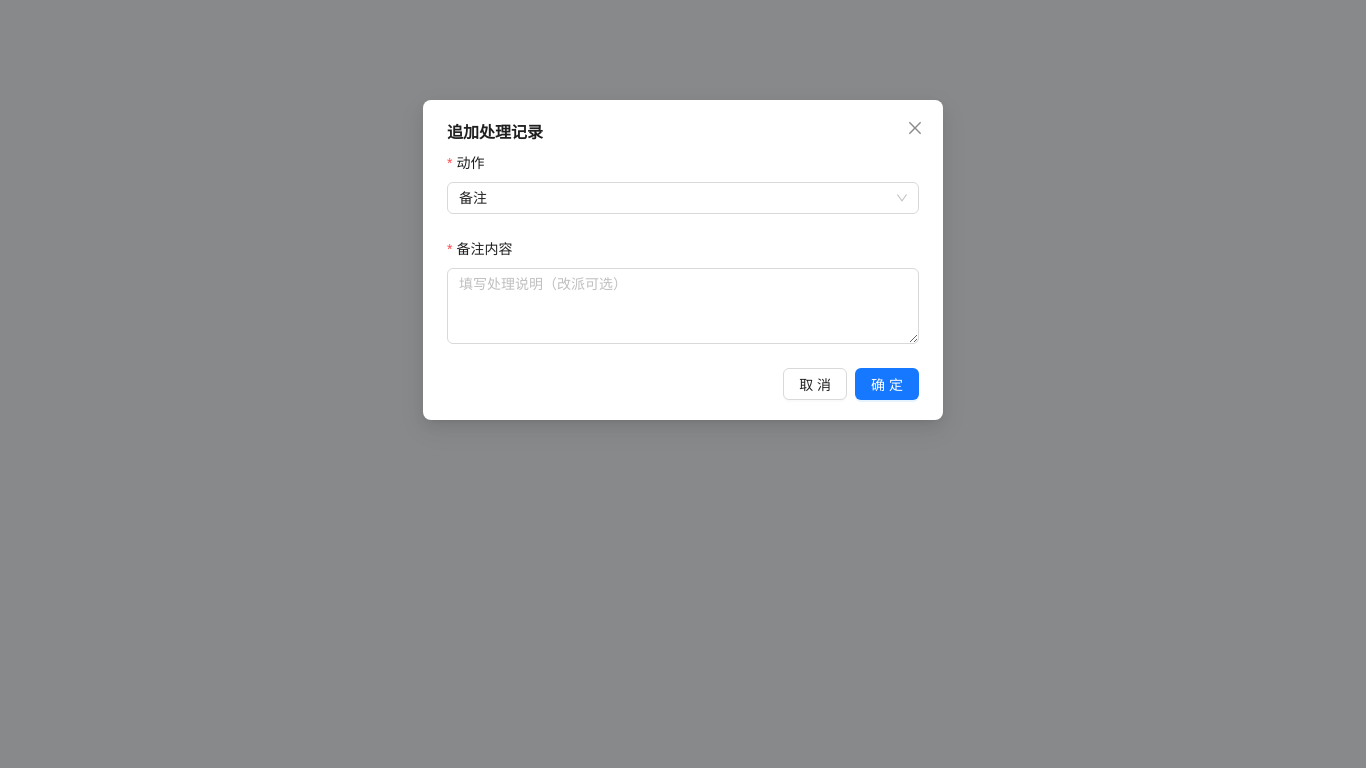
Scenario: AddProcessingLogModal — D3: COMMENT/REASSIGN only, never STATUS_CHANGE › never offers STATUS_CHANGE as a selectable action (only 备注 / 改派)
Note:  打开动作下拉。
Click the dropdown labelled "动作".
click(473, 163)  # box [447,152,498,174]
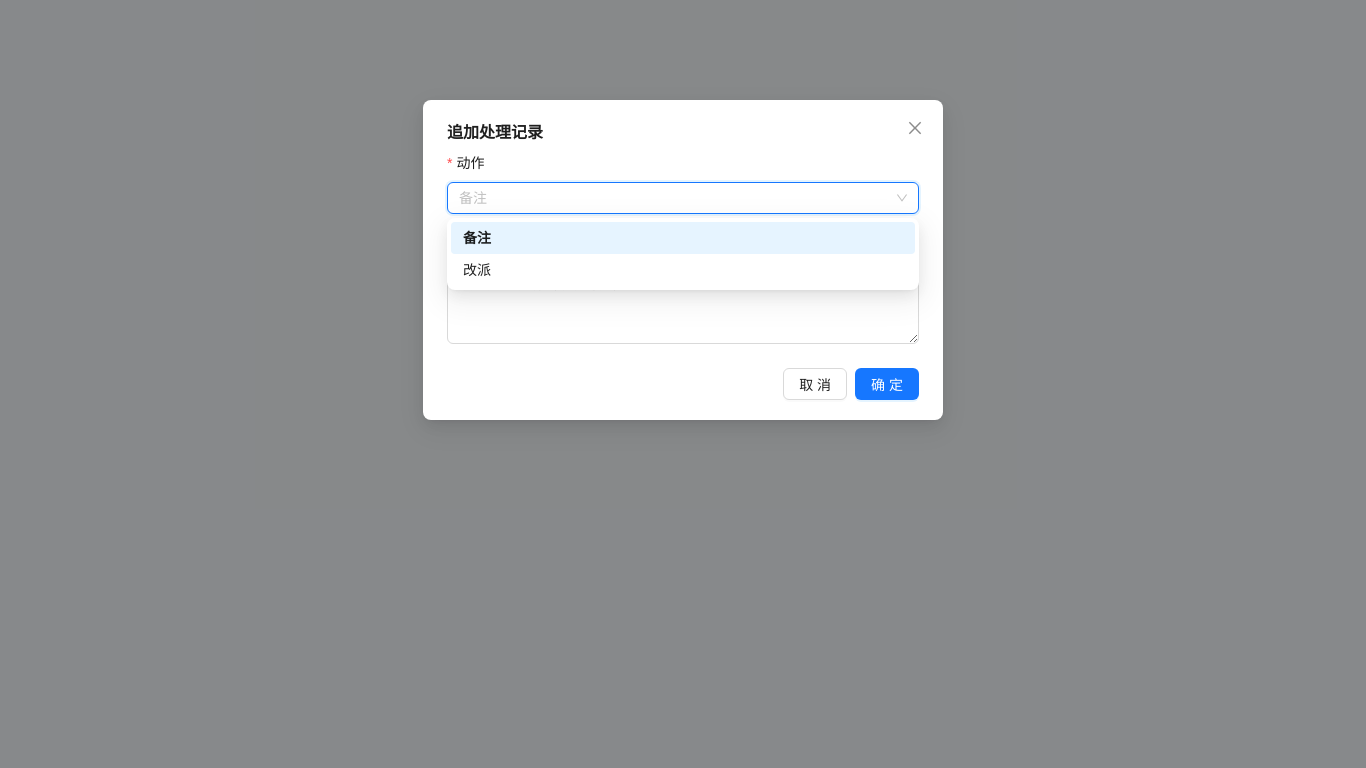
Expected: the 1st text "备注" is shown, [459,189,487,206]
Expected: the text "改派" is shown, [463,261,491,278]
